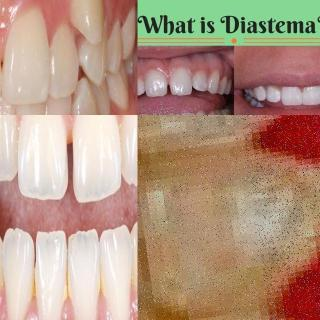calculus: (143, 153, 320, 295), (142, 115, 310, 157), (138, 223, 160, 290), (85, 272, 109, 312), (55, 263, 77, 305), (24, 266, 41, 308)
maligned: (78, 16, 114, 88), (67, 0, 116, 38), (68, 76, 104, 115)
